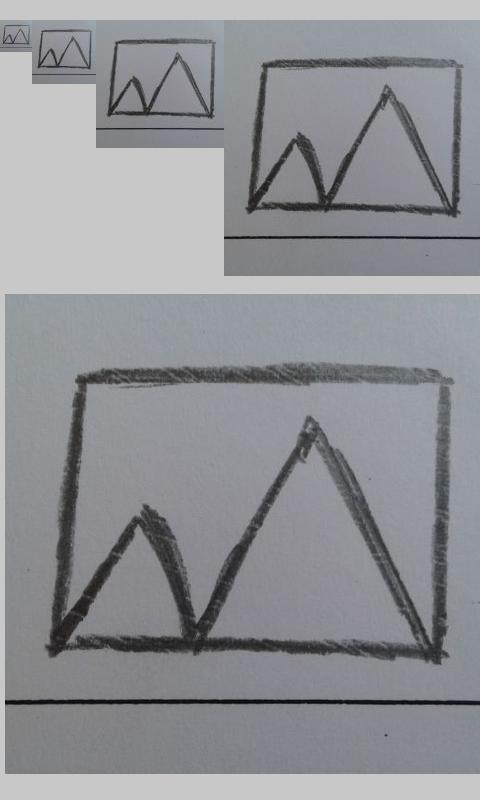image_view: (47, 363, 453, 661), (242, 55, 463, 219), (108, 39, 216, 118), (37, 29, 93, 69), (2, 24, 31, 45)
